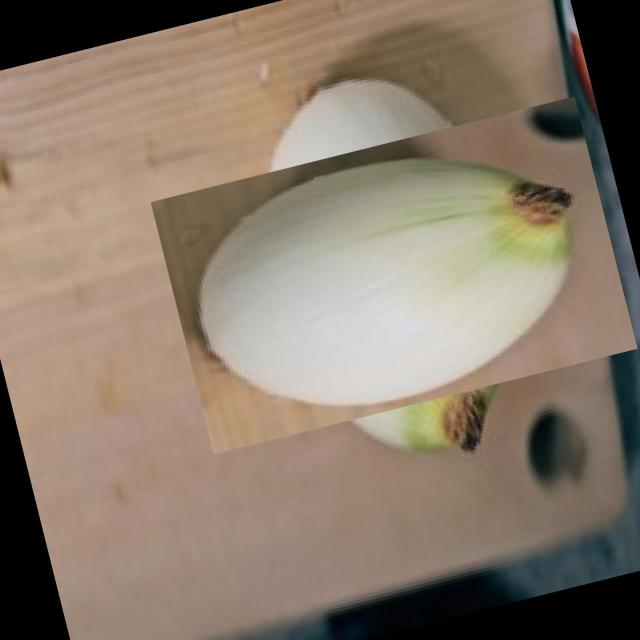Onion: (181, 63, 605, 486)
